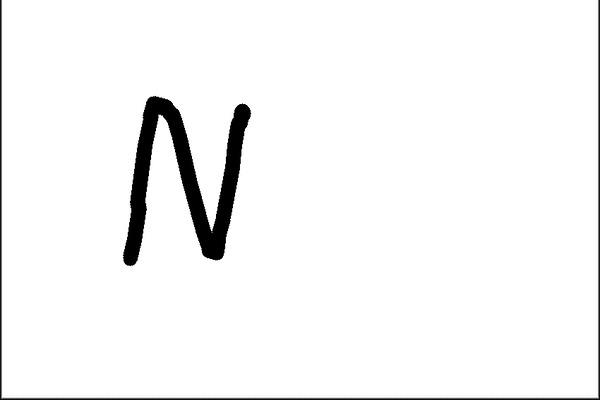N: (117, 91, 254, 265)
